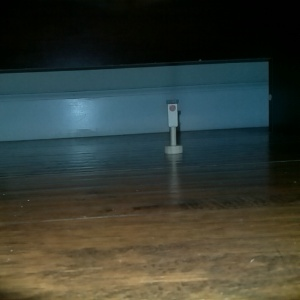traffic light red: (162, 97, 184, 155)
